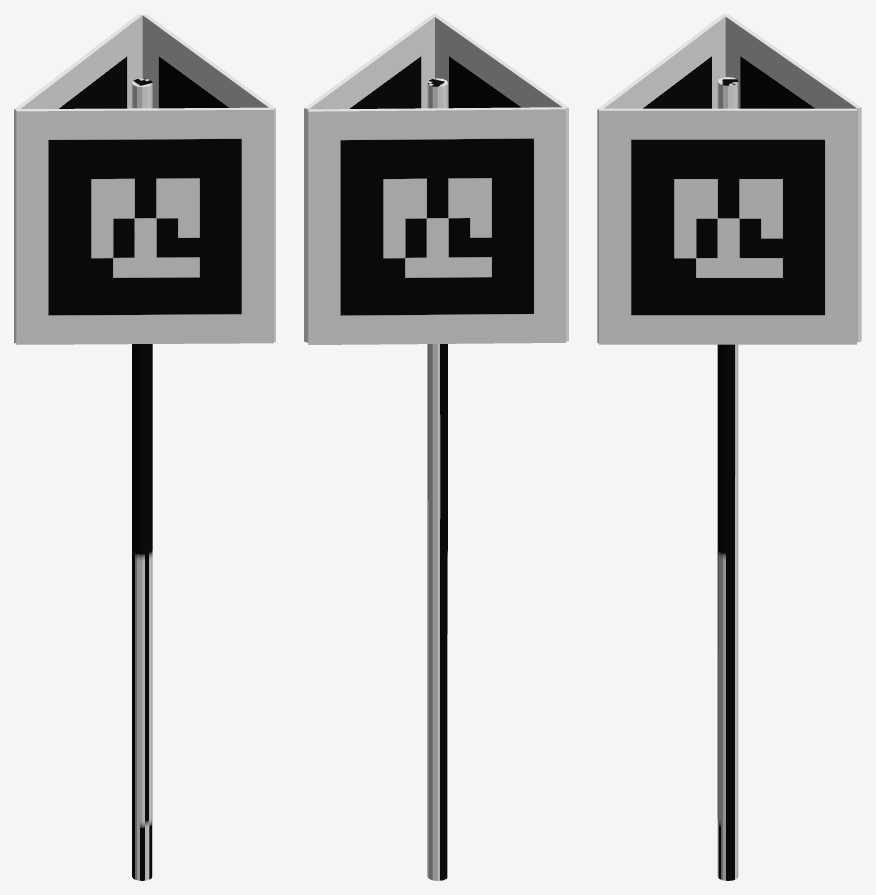
File: Marker12.dae
The picture shows the model from 3 angles, left to right: view 1: azimuth 30°, elevation 25°; view 2: azimuth 150°, elevation 25°; view 3: azimuth 270°, elevation 25°; orthographic projection.
Parts seen in each view (by area): view 1: Marker0; view 2: Marker0; view 3: Marker0.
Part boxes in pixels (box(x1,y1,x2,y2)): Marker0: box(14, 14, 275, 880); Marker0: box(304, 14, 568, 880); Marker0: box(597, 14, 861, 880).
Bounding box in the file's own units: 0.4433 × 0.5127 × 1.71.
